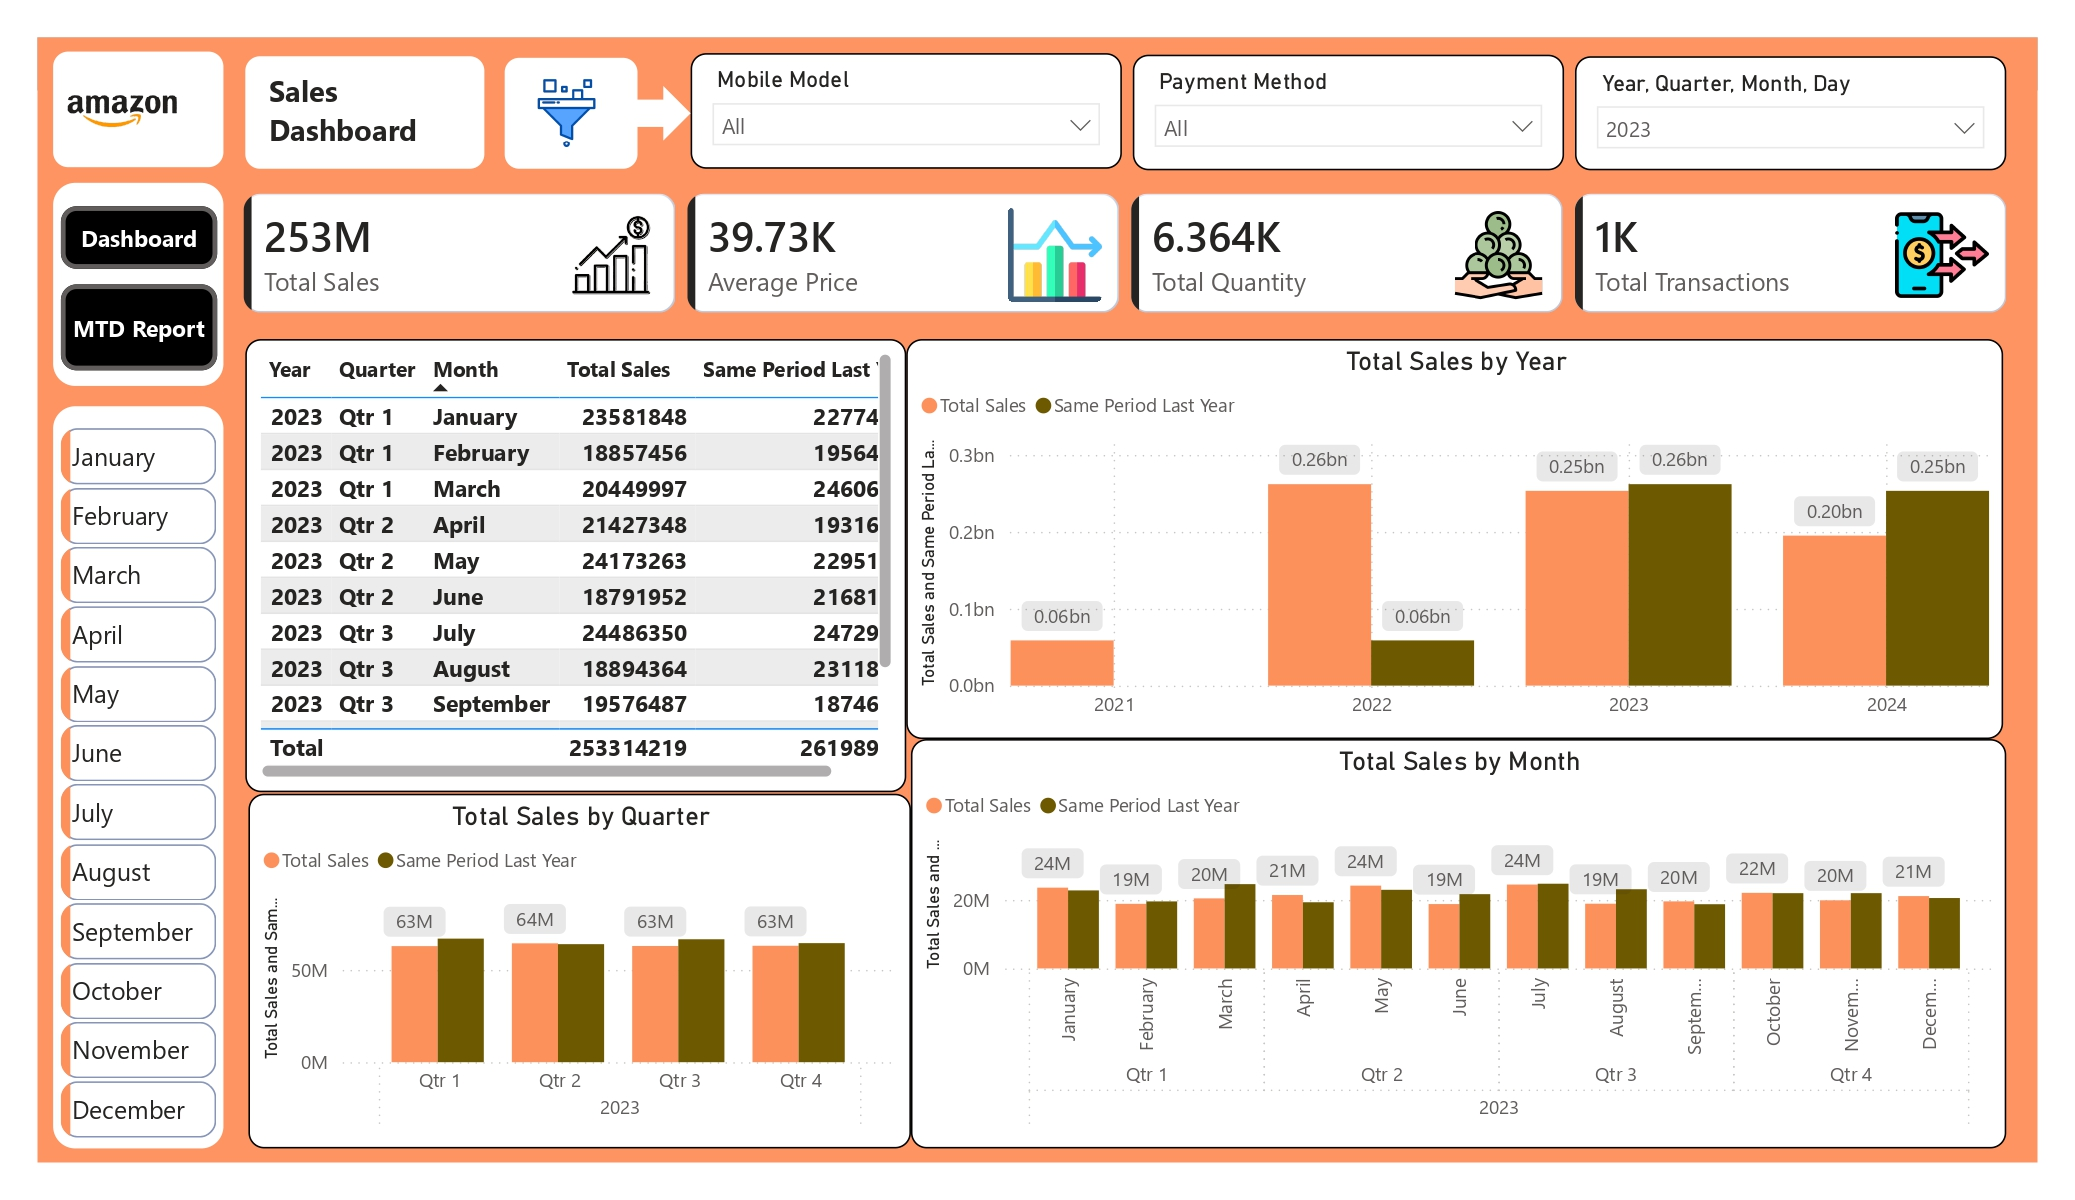

This screenshot's page, from the dashboard's own definition file:
{"tool":"powerbi","page":{"name":"Same Period Last Year","canvas":[1280,720],"ordinal":2},"visuals":[{"type":"shape","box":[10,8.8,108.8,73.8],"z":0},{"type":"image","box":[10,11.2,87.5,71.2],"z":1000},{"type":"shape","box":[10,92.5,108.8,130],"z":2000},{"type":"shape","box":[10,236.2,108.8,475],"z":3000},{"type":"advancedSlicerVisual","fields":{"Values":["custom_calendar.date.Variation.Date Hierarchy.Month"]},"box":[10,245,108.8,475],"z":4000},{"type":"slicer","fields":{"Values":["sales_data.Mobile Model"]},"box":[417.5,9.8,276.2,73.8],"z":6000},{"type":"slicer","fields":{"Values":["sales_data.Payment Method"]},"box":[700.6,10.8,276.2,73.8],"z":7000},{"type":"slicer","fields":{"Values":["custom_calendar.date.Variation.Date Hierarchy.Year","custom_calendar.date.Variation.Date Hierarchy.Quarter","custom_calendar.date.Variation.Date Hierarchy.Month","custom_calendar.date.Variation.Date Hierarchy.Day"]},"box":[983.8,11.5,276.2,73.8],"z":8000},{"type":"shape","box":[298.8,12.5,85,71.2],"z":9000},{"type":"shape","box":[132.5,11.8,153.8,72.5],"z":10000},{"type":"textbox","box":[142.5,16.2,133.8,61.2],"z":11000},{"type":"image","box":[316.2,17.5,45,61.2],"z":12000},{"type":"shape","box":[368.8,31.2,48.8,35],"z":13000},{"type":"clusteredColumnChart","title":"Total Sales by Year","fields":{"Y":["sales_data.Total Sales","sales_data.Same Period Last Year"],"Category":["custom_calendar.date.Variation.Date Hierarchy.Year","custom_calendar.date.Variation.Date Hierarchy.Quarter","custom_calendar.date.Variation.Date Hierarchy.Month","custom_calendar.date.Variation.Date Hierarchy.Day"]},"box":[556.2,192.5,701.2,256.2],"z":15000},{"type":"tableEx","fields":{"Values":["custom_calendar.date.Variation.Date Hierarchy.Year","custom_calendar.date.Variation.Date Hierarchy.Quarter","custom_calendar.date.Variation.Date Hierarchy.Month","sales_data.Total Sales","sales_data.Same Period Last Year"]},"box":[132.5,192.5,423.8,290],"z":20000},{"type":"clusteredColumnChart","title":"Total Sales by Month","fields":{"Y":["sales_data.Total Sales","sales_data.Same Period Last Year"],"Category":["custom_calendar.date.Variation.Date Hierarchy.Year","custom_calendar.date.Variation.Date Hierarchy.Quarter","custom_calendar.date.Variation.Date Hierarchy.Month","custom_calendar.date.Variation.Date Hierarchy.Day"]},"box":[558.8,448.8,701.2,262.5],"z":20001},{"type":"clusteredColumnChart","title":"Total Sales by Quarter","fields":{"Y":["sales_data.Total Sales","sales_data.Same Period Last Year"],"Category":["custom_calendar.date.Variation.Date Hierarchy.Year","custom_calendar.date.Variation.Date Hierarchy.Quarter","custom_calendar.date.Variation.Date Hierarchy.Month","custom_calendar.date.Variation.Date Hierarchy.Day"]},"box":[135,483.8,423.8,227.5],"z":20002},{"type":"actionButton","title":"MTD Report","box":[15,107.5,100,40],"z":20003},{"type":"actionButton","title":"MTD Report","box":[15,157.5,100,55],"z":20004},{"type":"cardVisual","fields":{"Data":["sales_data.Total Sales","sales_data.Average Price","sales_data.Total Quantity","sales_data.Total Transactions"]},"box":[115,82.5,1165,110],"z":20005}]}

Visuals, with their boxes on the page's 1280x720 design canvas (x1, y1, x2, y2). These are canvas units, not pixel positions in the 2075x1200 screenshot, which may show the page scaled, cropped or inside an application window:
shape: x1=10, y1=9, x2=119, y2=83
image: x1=10, y1=11, x2=98, y2=82
shape: x1=10, y1=92, x2=119, y2=222
shape: x1=10, y1=236, x2=119, y2=711
advancedSlicerVisual - custom_calendar.date.Variation.Date Hierarchy.Month: x1=10, y1=245, x2=119, y2=720
slicer - sales_data.Mobile Model: x1=418, y1=10, x2=694, y2=84
slicer - sales_data.Payment Method: x1=701, y1=11, x2=977, y2=85
slicer - custom_calendar.date.Variation.Date Hierarchy.Year x custom_calendar.date.Variation.Date Hierarchy.Quarter: x1=984, y1=12, x2=1260, y2=85
shape: x1=299, y1=12, x2=384, y2=84
shape: x1=132, y1=12, x2=286, y2=84
textbox: x1=142, y1=16, x2=276, y2=77
image: x1=316, y1=18, x2=361, y2=79
shape: x1=369, y1=31, x2=418, y2=66
"Total Sales by Year" clusteredColumnChart: x1=556, y1=192, x2=1257, y2=449
tableEx - custom_calendar.date.Variation.Date Hierarchy.Year x custom_calendar.date.Variation.Date Hierarchy.Quarter: x1=132, y1=192, x2=556, y2=482
"Total Sales by Month" clusteredColumnChart: x1=559, y1=449, x2=1260, y2=711
"Total Sales by Quarter" clusteredColumnChart: x1=135, y1=484, x2=559, y2=711
"MTD Report" actionButton: x1=15, y1=108, x2=115, y2=148
"MTD Report" actionButton: x1=15, y1=158, x2=115, y2=212
cardVisual - sales_data.Total Sales x sales_data.Average Price: x1=115, y1=82, x2=1280, y2=192
